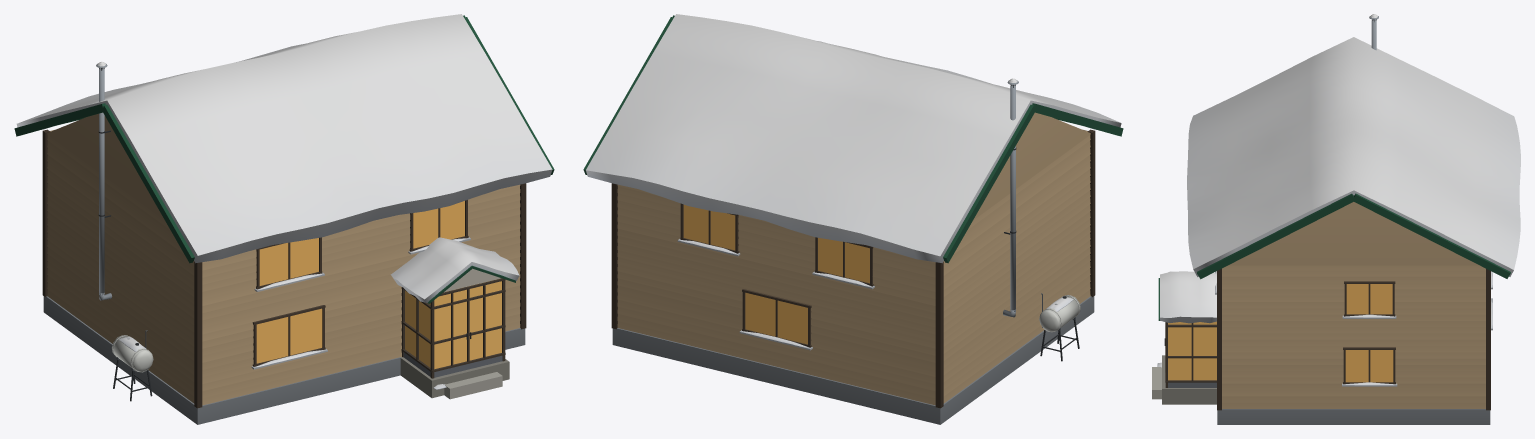
File: house_green.glb
3 views of the same model, side by side, from view 1: azimuth 30°, elevation 25°; view 2: azimuth 150°, elevation 25°; view 3: azimuth 270°, elevation 25° (orthographic). The views are drawn at different scales.
Visible parts, largest first — view 1: house_green; view 2: house_green; view 3: house_green.
Boxes of the visible parts, left/top/right/bottom form: house_green: left=14, top=14, right=554, bottom=424; house_green: left=583, top=14, right=1123, bottom=424; house_green: left=1152, top=14, right=1520, bottom=424.
Size of the model in its own units: 12.15 by 9.38 by 11.79.
